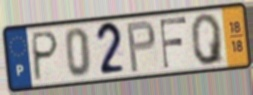0: (63, 26, 94, 80)
2: (93, 19, 130, 80)
F: (158, 15, 188, 71)
P: (125, 18, 158, 75), (31, 29, 61, 84)
Q: (189, 11, 227, 67)
